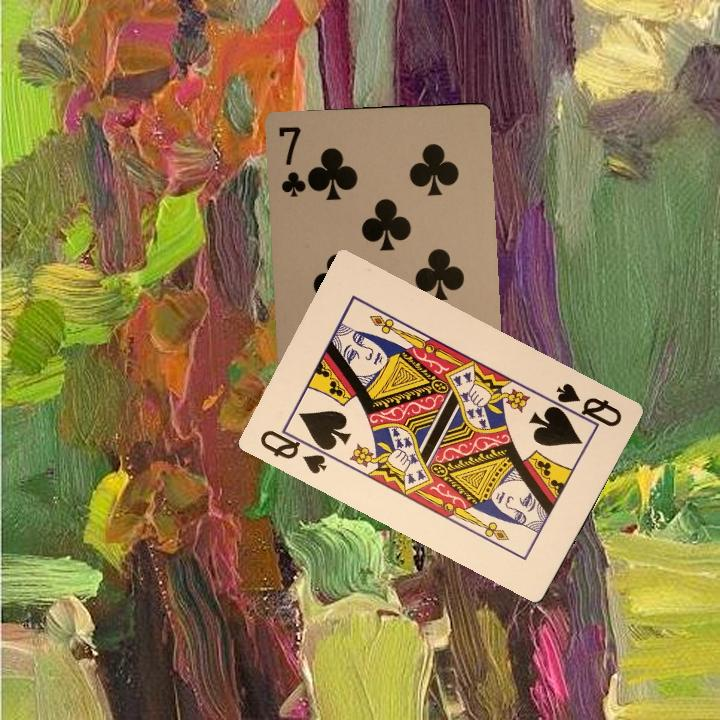7c: (274, 122, 310, 199)
Qs: (255, 422, 335, 477), (544, 379, 625, 430)
